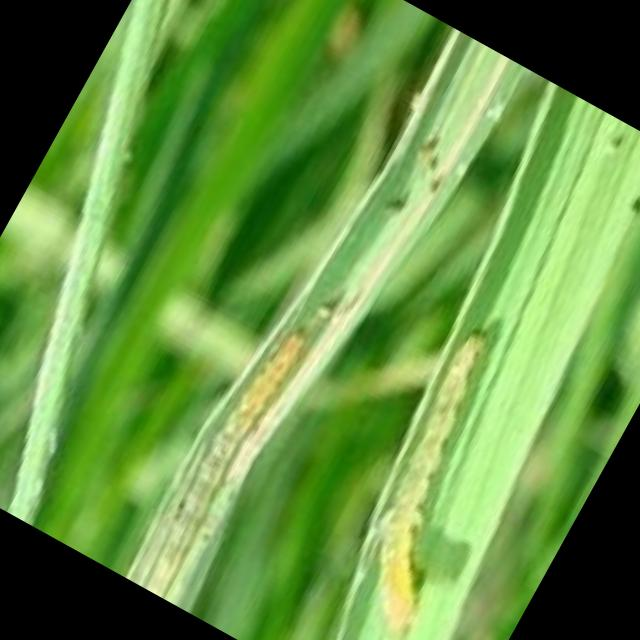leaf-folder: (297, 299, 568, 640), (111, 296, 339, 601)
